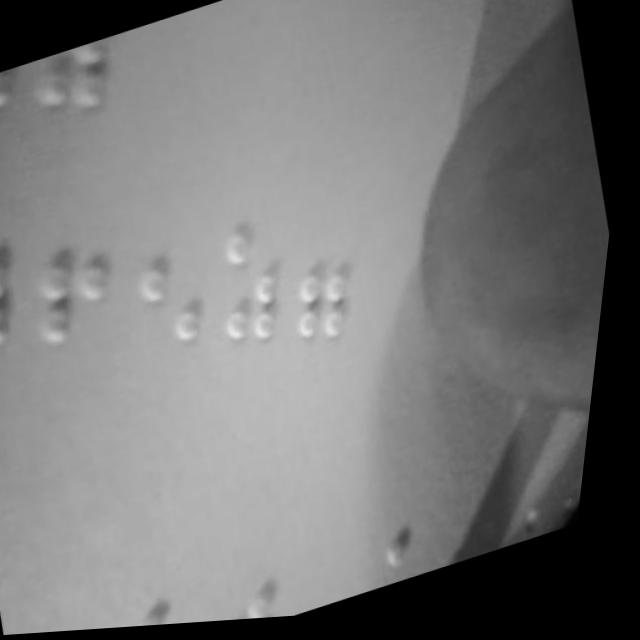braiile: (195, 191, 316, 360), (17, 195, 143, 354), (117, 207, 233, 363), (274, 205, 386, 358), (0, 184, 60, 359), (206, 541, 301, 626), (132, 552, 229, 630), (50, 566, 144, 634), (2, 565, 71, 637)
